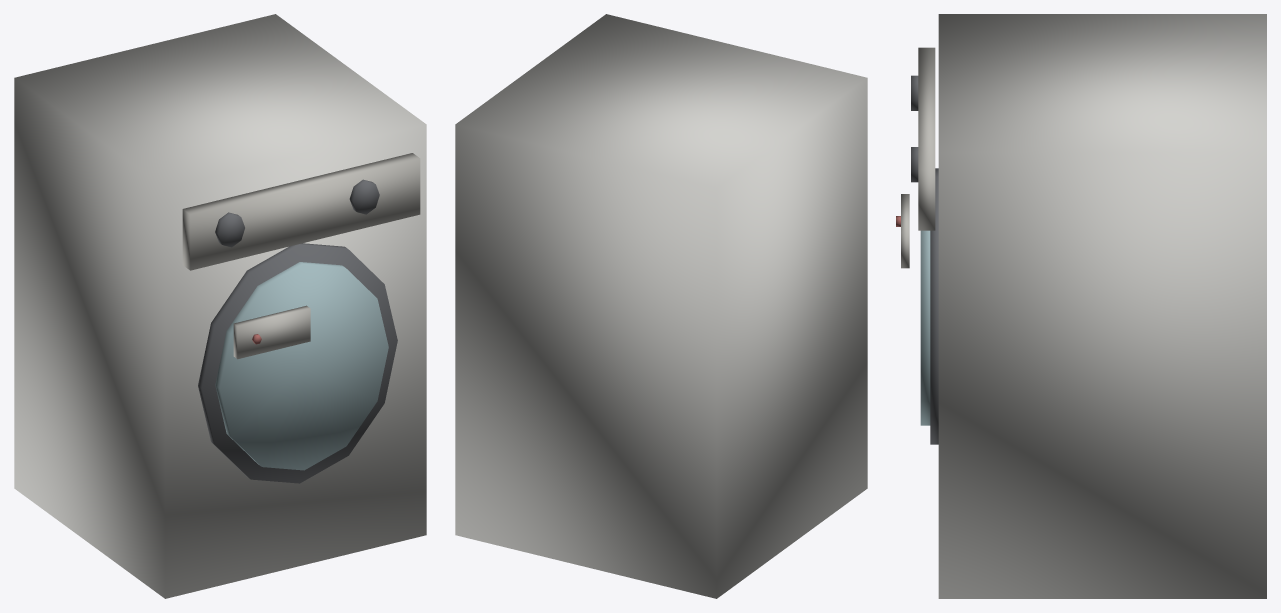
Rendered from domestic_dryer__tall.glb.
3 renders of one model, left to right at view 1: azimuth 30°, elevation 25°; view 2: azimuth 150°, elevation 25°; view 3: azimuth 270°, elevation 25°, orthographic. The views are drawn at different scales.
Parts seen in each view (by area): view 1: world; view 2: world; view 3: world.
Part boxes in pixels (<box>): world: <box>14,14,426,598</box>; world: <box>455,14,867,598</box>; world: <box>896,14,1266,598</box>.
Bounding box in the file's own units: 0.68 × 1.02 × 0.7685.
